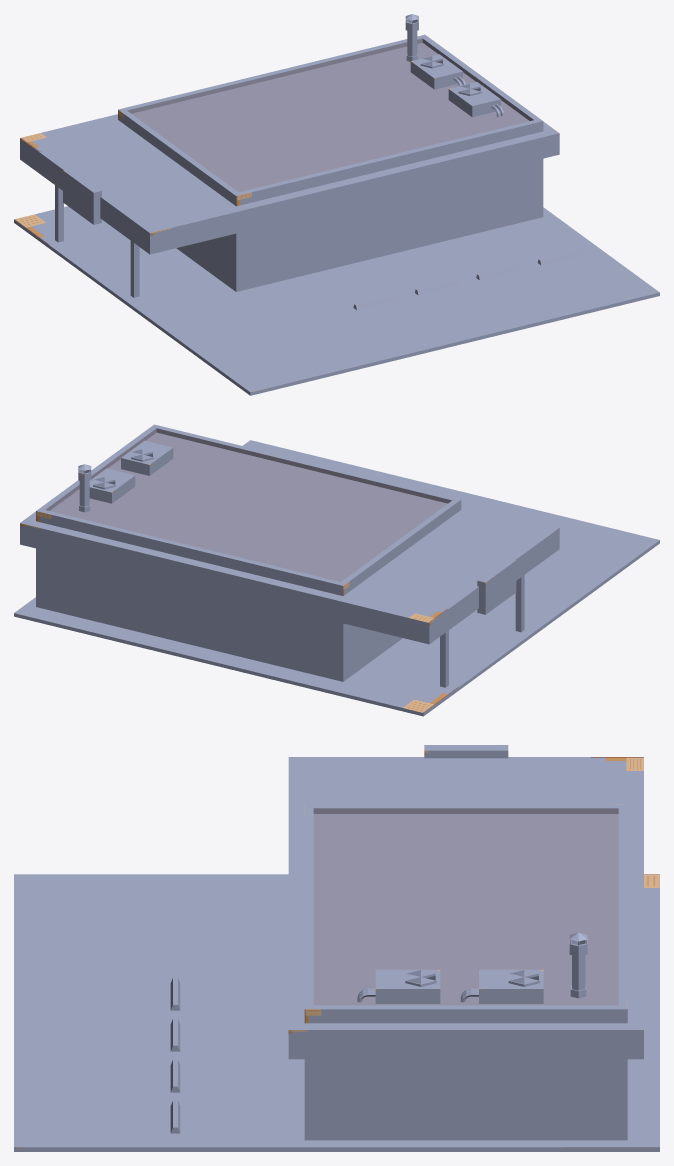
File: store.FBX
3 renders of one model, top to bottom at view 1: azimuth 30°, elevation 25°; view 2: azimuth 150°, elevation 25°; view 3: azimuth 270°, elevation 25°, orthographic. The views are drawn at different scales.
Parts seen in each view (by area): view 1: store_main, store_ground, store_sign, store_park; view 2: store_main, store_sign, store_ground; view 3: store_main, store_ground, store_sign, store_park.
Boxes of the visible parts, box(x1,y1,x2,y2) form: store_main: box(118, 14, 543, 291); store_ground: box(14, 206, 659, 395); store_sign: box(20, 114, 559, 297); store_park: box(353, 249, 581, 310); store_main: box(36, 424, 461, 681); store_sign: box(20, 504, 559, 687); store_ground: box(14, 440, 659, 716); store_main: box(304, 804, 627, 1140); store_ground: box(14, 874, 659, 1151); store_sign: box(288, 745, 643, 1059); store_park: box(170, 977, 180, 1133).
Bounding box in the file's own units: 2032 × 656 × 2000.
